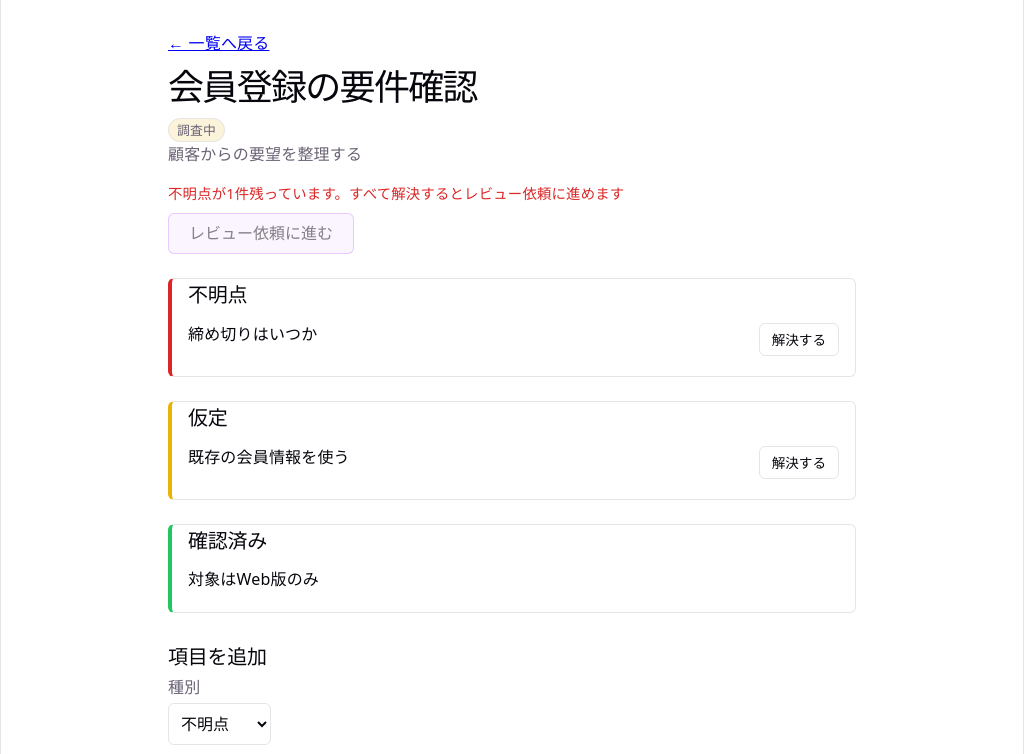
Test: 項目の解決 › 根拠が空のときは、APIが返したエラーを表示する
Click the button "解決する" in the row of "締め切りはいつか": (799, 339) [759,323,839,356]
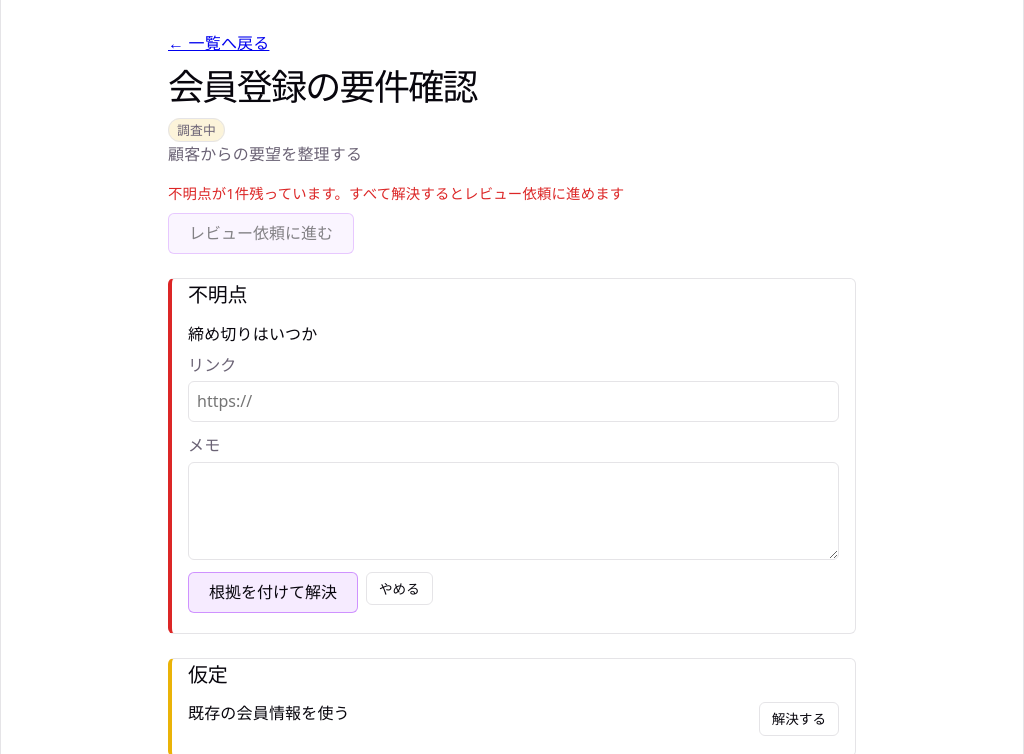
Click the button "根拠を付けて解決": (273, 592) [188,572,358,613]
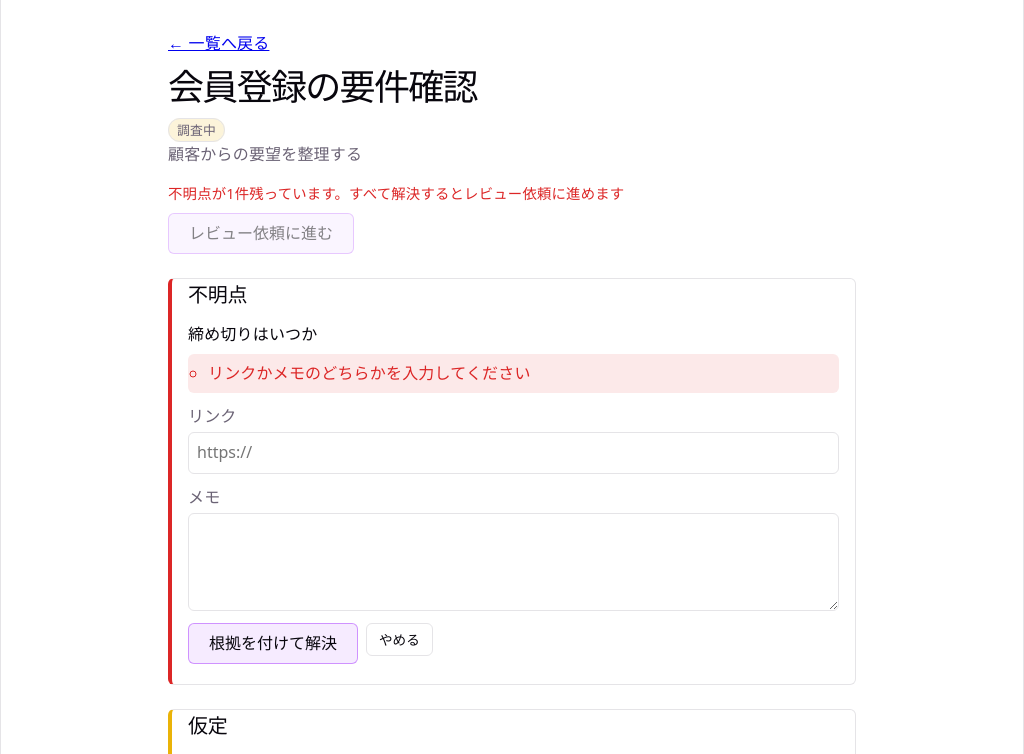
Expected: the text "締め切りはいつか" is shown, [188,323,318,346]
Expected: the message reads "リンクかメモのどちらかを入力してください", [208,362,531,384]
